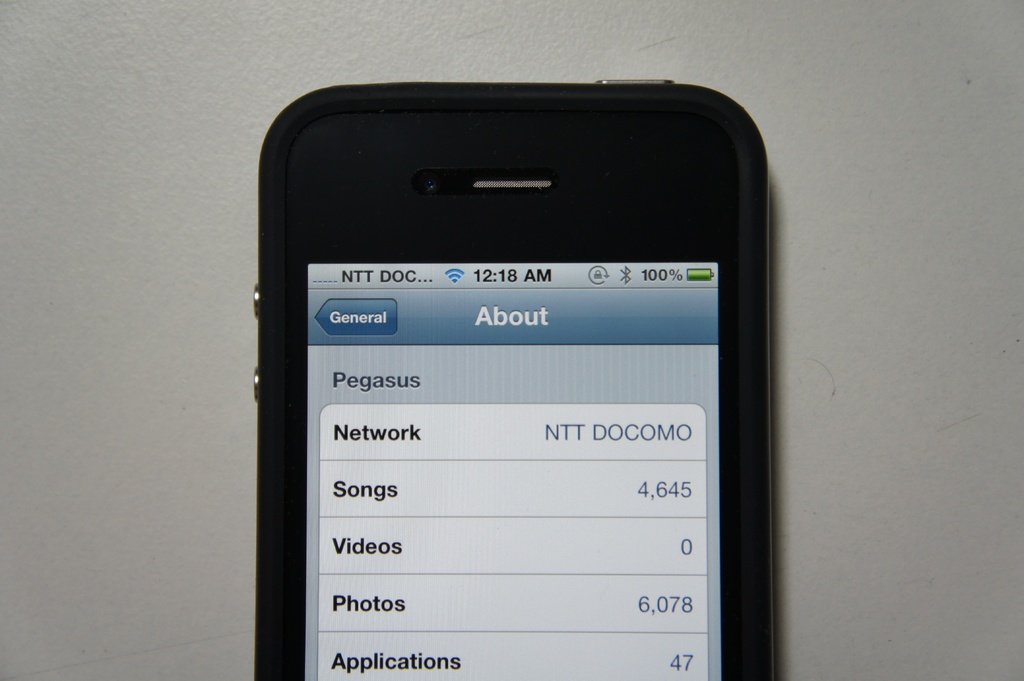Mobile-phone: (254, 76, 776, 681)
